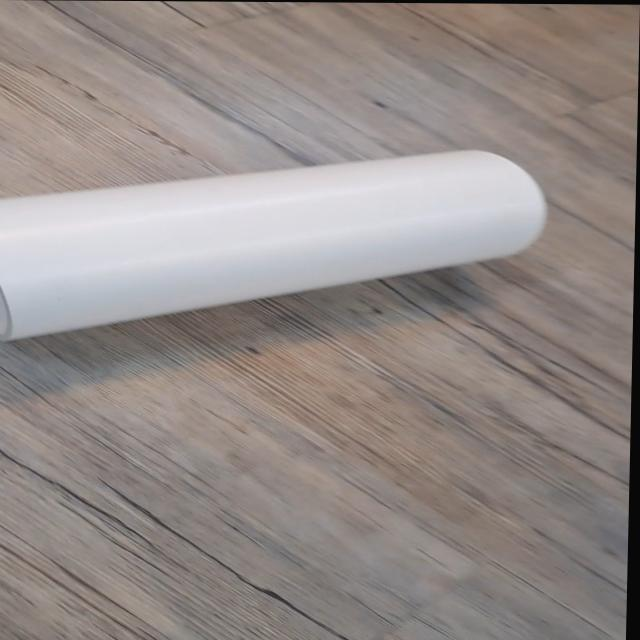CORAL: (0, 142, 560, 360)
